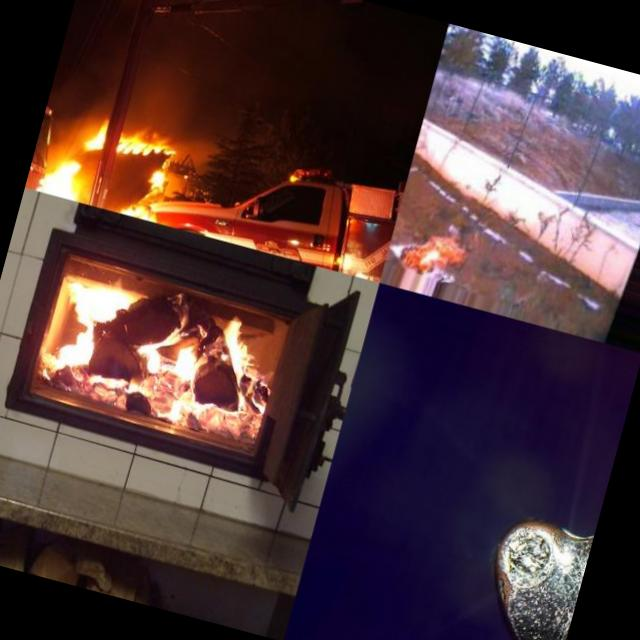fire: (30, 264, 290, 462), (38, 98, 195, 226), (398, 220, 474, 281)
